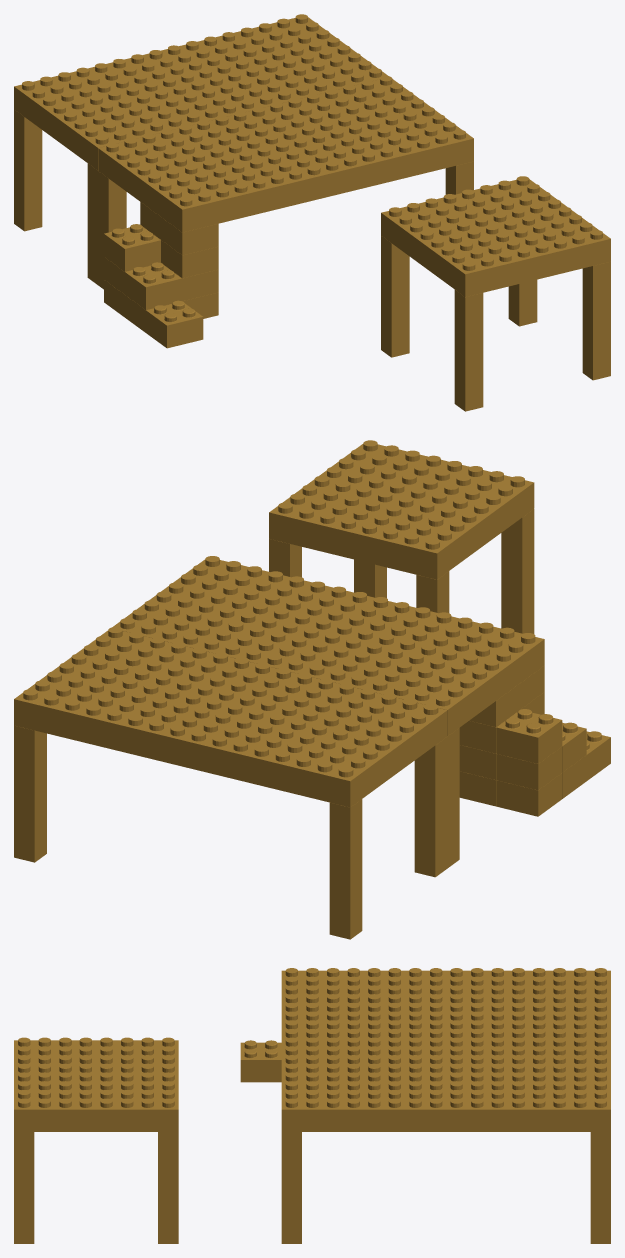
Rendered from bridge.dae.
The picture shows the model from 3 angles, top to bottom: view 1: azimuth 30°, elevation 25°; view 2: azimuth 150°, elevation 25°; view 3: azimuth 270°, elevation 25°; orthographic projection. The views are drawn at different scales.
Parts seen in each view (by area): view 1: Part.12, Part.16, Part.20, Part.24, Part.21, Part.18, Part.23, Part.19, Part.15, Part.14, Part.13, Part.8 (+5 smaller); view 2: Part.16, Part.12, Part.20, Part.19, Part.18, Part.17, Part.24, Part.13, Part.2, Part.1, Part.23, Part.22 (+9 smaller); view 3: Part.12, Part.16, Part.20, Part.11, Part.17, Part.21, Part.22, Part.15.
Part boxes in pixels (x1,y1,x2,y2): Part.12: (98, 76, 473, 232); Part.16: (14, 14, 388, 170); Part.20: (381, 176, 610, 296); Part.24: (454, 290, 483, 411); Part.21: (582, 261, 610, 380); Part.18: (14, 109, 42, 231); Part.23: (381, 236, 409, 357); Part.19: (87, 163, 126, 289); Part.15: (146, 300, 203, 348); Part.14: (125, 262, 182, 309); Part.13: (104, 224, 160, 271); Part.8: (161, 240, 218, 278); Part.16: (14, 627, 447, 807); Part.12: (112, 556, 544, 736); Part.20: (269, 440, 534, 579); Part.19: (414, 728, 459, 877); Part.18: (329, 799, 362, 939); Part.17: (14, 725, 46, 862); Part.24: (501, 509, 534, 633); Part.13: (496, 709, 562, 763); Part.2: (496, 746, 562, 790); Part.1: (496, 773, 562, 816); Part.23: (416, 571, 449, 613); Part.22: (269, 539, 301, 577); Part.12: (281, 968, 446, 1131); Part.16: (446, 968, 610, 1131); Part.20: (14, 1037, 178, 1131); Part.11: (281, 1132, 301, 1243); Part.17: (590, 1132, 610, 1243); Part.21: (14, 1132, 34, 1243); Part.22: (158, 1132, 178, 1243); Part.15: (240, 1040, 281, 1082).
Size of the model in its own units: 144 by 59.38 by 232.
